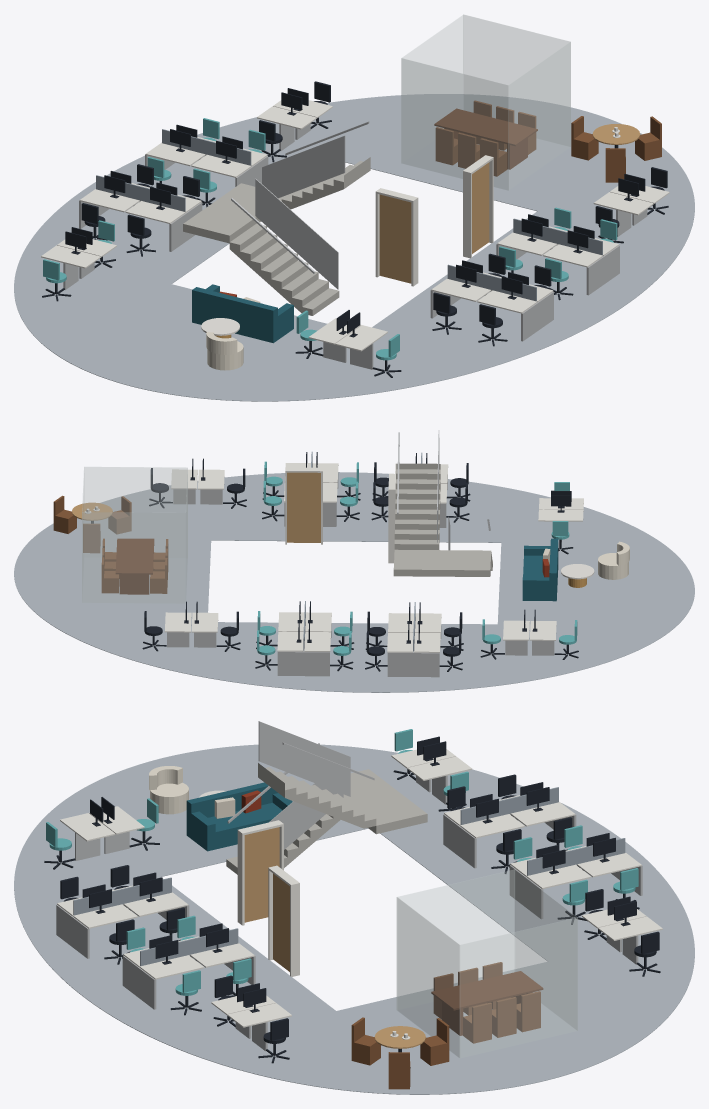
3 renders of one model, top to bottom at view 1: azimuth 30°, elevation 25°; view 2: azimuth 150°, elevation 25°; view 3: azimuth 270°, elevation 25°, orthographic. The views are drawn at different scales.
Visible parts, largest first — view 1: Floors, Furniture, Generic models, Stairs, Railings, Doors, Specialty equipment; view 2: Floors, Furniture, Generic models, Stairs, Doors, Specialty equipment, Railings; view 3: Floors, Furniture, Generic models, Doors, Specialty equipment, Stairs, Railings.
Boxes of the visible parts, bbox=[...] form: Floors: bbox=[14, 94, 694, 401]; Furniture: bbox=[41, 81, 669, 377]; Generic models: bbox=[401, 14, 570, 190]; Stairs: bbox=[183, 157, 370, 315]; Railings: bbox=[231, 121, 369, 289]; Doors: bbox=[375, 155, 493, 286]; Specialty equipment: bbox=[65, 88, 645, 337]; Floors: bbox=[14, 472, 694, 692]; Furniture: bbox=[53, 451, 629, 677]; Generic models: bbox=[82, 467, 187, 603]; Stairs: bbox=[393, 463, 492, 576]; Doors: bbox=[285, 467, 395, 563]; Specialty equipment: bbox=[184, 452, 571, 643]; Railings: bbox=[397, 430, 490, 550]; Floors: bbox=[14, 744, 694, 1094]; Furniture: bbox=[44, 729, 662, 1089]; Generic models: bbox=[396, 869, 577, 1058]; Doors: bbox=[237, 820, 299, 976]; Specialty equipment: bbox=[82, 736, 636, 1012]; Stairs: bbox=[226, 763, 427, 874]; Railings: bbox=[227, 721, 374, 849].
Size of the model in its own units: 17.82 by 4.03 by 14.63.
